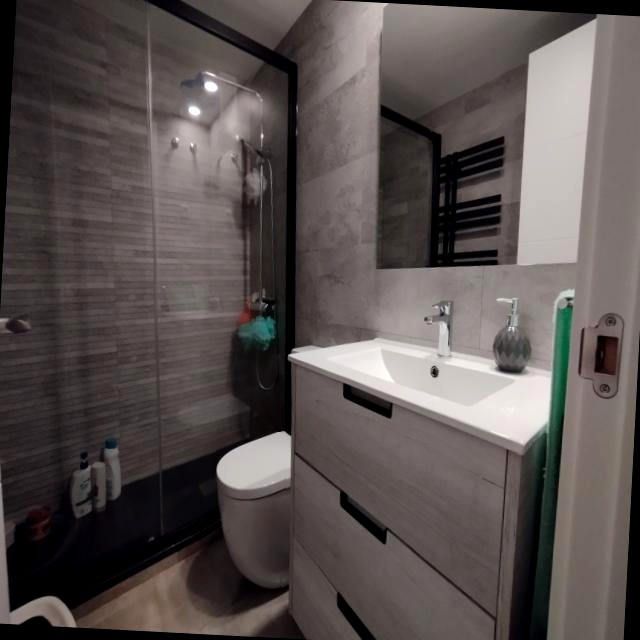cabinet: (289, 367, 546, 640)
table: (215, 432, 293, 592)
wardrobe: (288, 301, 552, 454)
